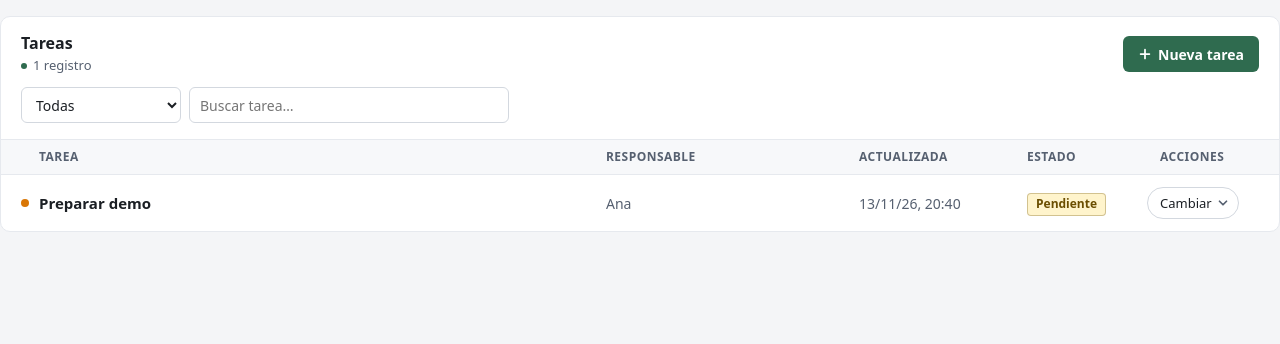
Scenario: cambiar el estado de una tarea › el menú ofrece una opción por cada OTRO estado, con nombre accesible que incluye la tarea
The width and height of the screenshot is (1280, 344).
Check: the heading "Preparar demo" is shown, box [39,193,151,214]
Click the button named "Cambiar estado de la tarea".
click(1193, 203)  # box [1147,187,1239,219]
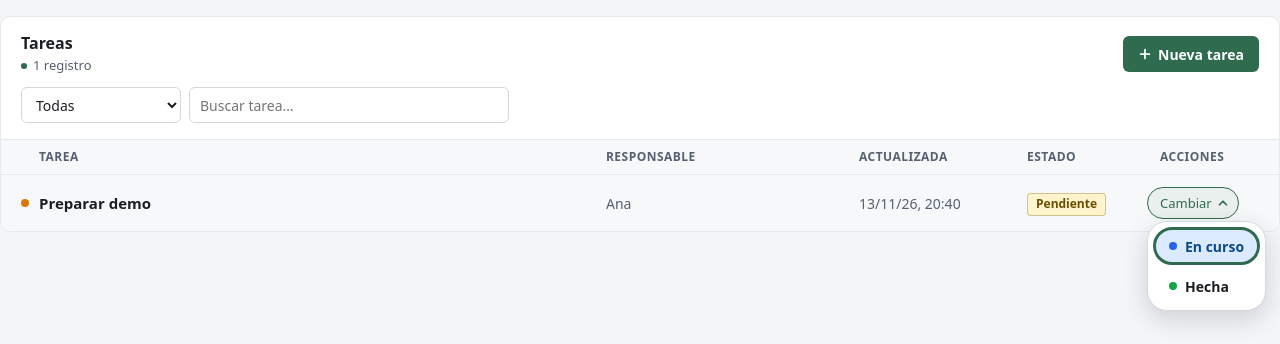
Check: the button named "Cambiar estado de la tarea" is expanded, box [1147,187,1239,219]
Check: the menu named "Cambiar el estado de «Preparar demo»" is shown, box [1147,221,1266,311]
Check: the menu item named "Marcar como En curso la tarea «Preparar demo»" is shown, box [1154,228,1259,264]
